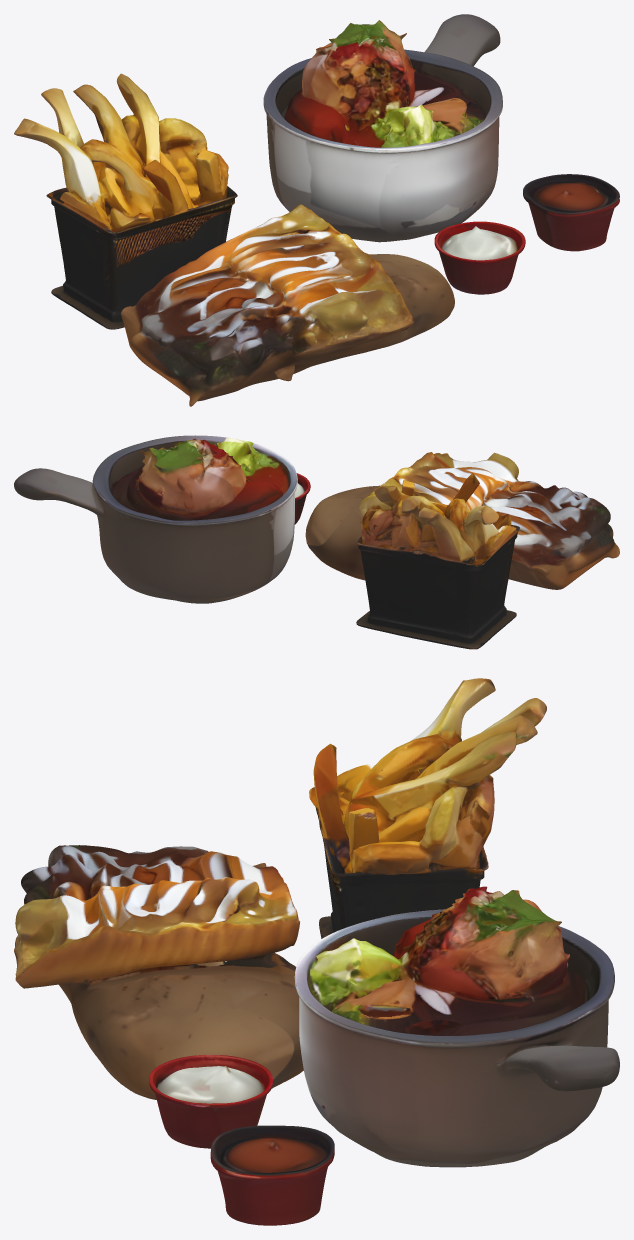
File: panini plat.glb
3 renders of one model, top to bottom at view 1: azimuth 30°, elevation 25°; view 2: azimuth 150°, elevation 25°; view 3: azimuth 270°, elevation 25°, orthographic. The views are drawn at different scales.
Parts seen in each view (by area): view 1: model; view 2: model; view 3: model.
Boxes of the visible parts, left/top/right/bottom form: model: left=14, top=14, right=619, bottom=406; model: left=14, top=435, right=619, bottom=649; model: left=14, top=678, right=619, bottom=1225.
Size of the model in its own units: 1.89 by 0.6475 by 1.45.
1 material, 1 textured.
